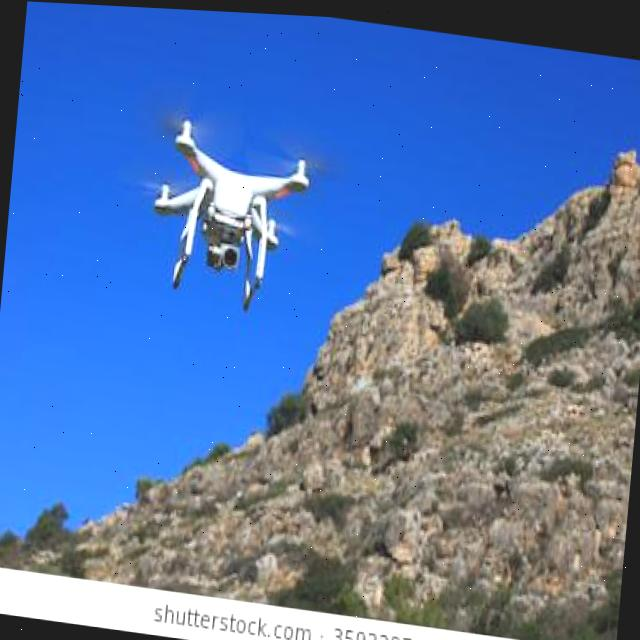drone: (91, 68, 359, 324)
